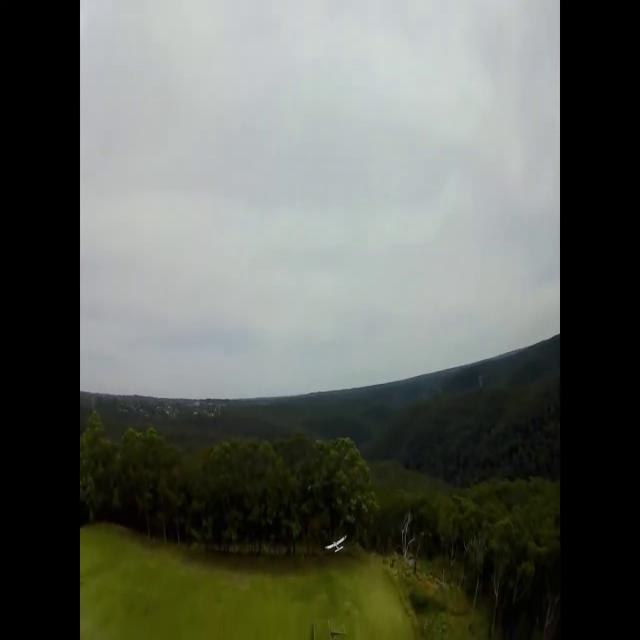iha: (325, 537, 347, 551)
